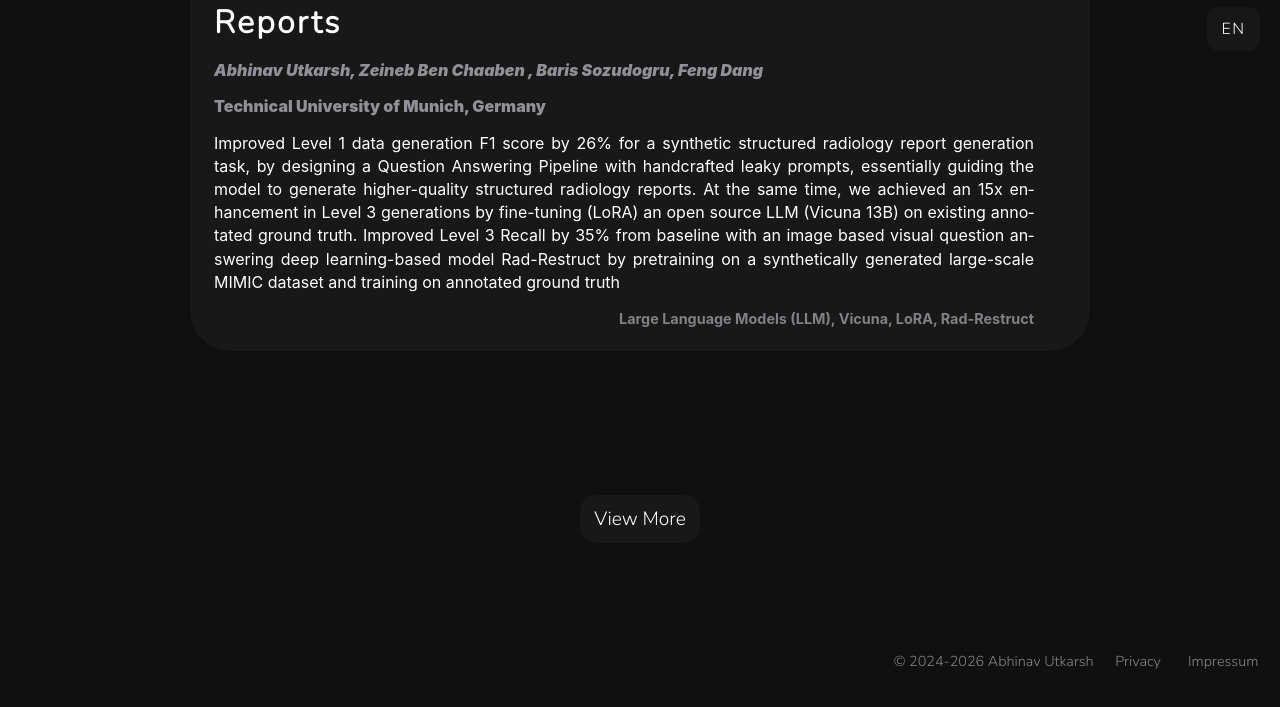
Test: Impressum carries the required headings and blanks for missing data
This screenshot has width=1280, height=707.
(page scrolled)
Click the link "Impressum". click: coordinates (1223, 661)
box: [1188,651,1258,671]
Wait 400 ms
(page scrolled)
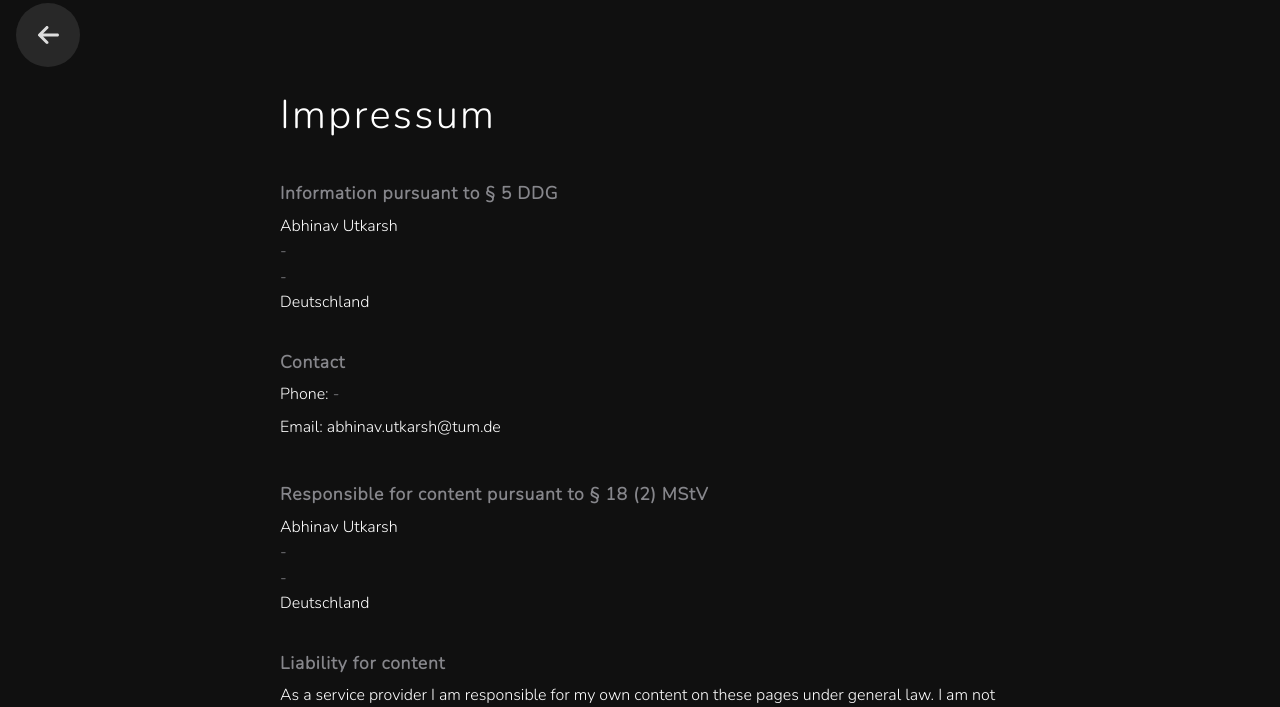
Expected: the heading "Information pursuant to § 5 DDG" is shown, [280,181,558,205]
Expected: the heading "Responsible for content pursuant to § 18 (2) MStV" is shown, [280,482,708,506]
Expected: the link "abhinav.utkarsh@tum.de" is shown, [327,416,501,438]
